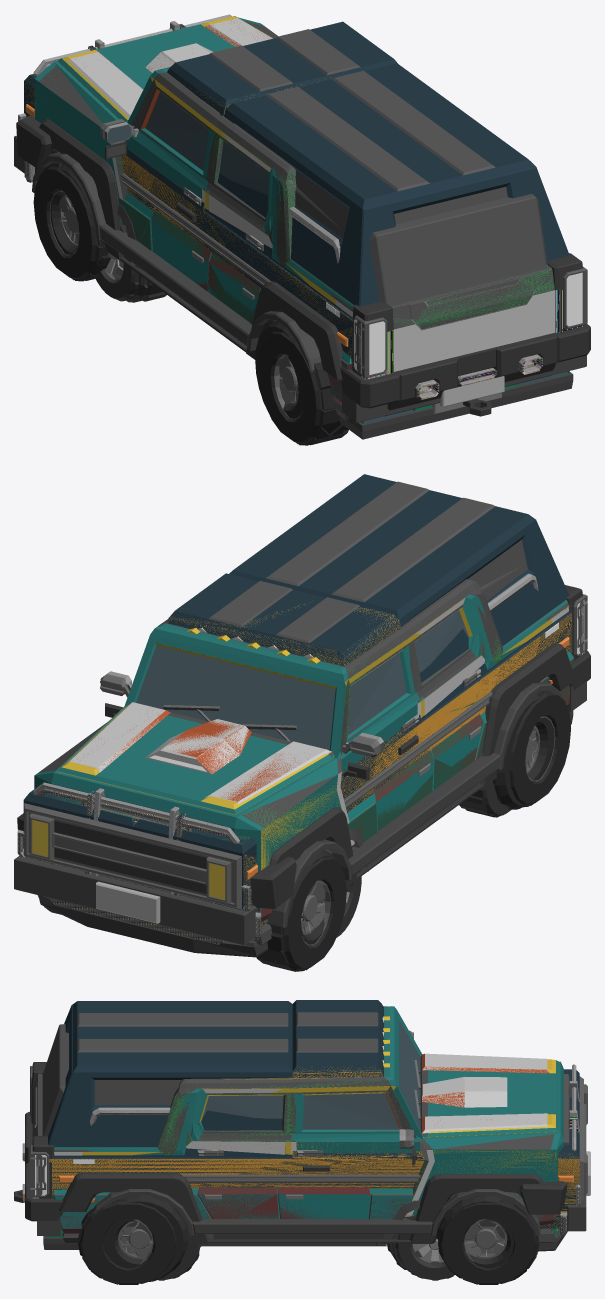
The model's file is cars.glb.
3 renders of one model, top to bottom at view 1: azimuth 30°, elevation 25°; view 2: azimuth 150°, elevation 25°; view 3: azimuth 270°, elevation 25°, orthographic. The views are drawn at different scales.
Parts seen in each view (by area): view 1: car_a01_002_body, Object545_body, Object546_body, Object548_body, car_a02_002_body, Object547_body, Object568_body, Object565_body, Object551_wheel_FL_mesh, Object564_body, Object549_body, Object549_wheel_RL_mesh (+14 smaller); view 2: car_a01_002_body, Object548_body, Object545_body, car_a02_002_body, Object546_body, Object549_body, Object565_body, Object551_body, Object568_body, Object551_wheel_FL_mesh, Object549_wheel_FL_mesh, car_a02_003_body (+11 smaller); view 3: car_a01_002_body, Object548_body, Object546_body, Object545_body, car_a02_002_body, Object568_body, Object557_body, Object545_wheel_RR_mesh, Object549_body, Object545_wheel_FR_mesh, Object549_wheel_FR_mesh, car_a01_002_wheel_RR_mesh (+13 smaller).
Part boxes in pixels (x1,y1,x2,y2): car_a01_002_body: [14, 21, 586, 422]; Object545_body: [18, 18, 590, 416]; Object546_body: [18, 14, 590, 398]; Object548_body: [21, 16, 577, 395]; car_a02_002_body: [14, 78, 586, 422]; Object547_body: [18, 15, 587, 388]; Object568_body: [58, 151, 351, 417]; Object565_body: [118, 197, 348, 419]; Object551_wheel_FL_mesh: [37, 171, 99, 280]; Object564_body: [340, 374, 573, 439]; Object549_body: [16, 16, 548, 395]; Object549_wheel_RL_mesh: [258, 331, 312, 439]; car_a01_002_body: [14, 474, 586, 945]; Object548_body: [17, 590, 586, 887]; Object545_body: [17, 565, 590, 944]; car_a02_002_body: [14, 604, 581, 944]; Object546_body: [17, 573, 590, 918]; Object549_body: [57, 597, 583, 909]; Object565_body: [258, 659, 573, 945]; Object551_body: [21, 594, 585, 873]; Object568_body: [252, 651, 573, 944]; Object551_wheel_FL_mesh: [292, 853, 346, 965]; Object549_wheel_FL_mesh: [256, 865, 337, 970]; car_a02_003_body: [20, 681, 586, 920]; car_a01_002_body: [14, 1000, 590, 1235]; Object548_body: [36, 1006, 569, 1244]; Object546_body: [22, 1006, 580, 1243]; Object545_body: [22, 1018, 580, 1244]; car_a02_002_body: [14, 1052, 587, 1235]; Object568_body: [53, 1188, 555, 1243]; Object557_body: [53, 1187, 555, 1244]; Object545_wheel_RR_mesh: [78, 1200, 169, 1284]; Object549_body: [36, 1016, 557, 1244]; Object545_wheel_FR_mesh: [438, 1203, 529, 1284]; Object549_wheel_FR_mesh: [448, 1198, 539, 1284]; car_a01_002_wheel_RR_mesh: [103, 1195, 187, 1281].
Bounding box in the file's own units: 0.9097 × 0.8041 × 2.05.
1 material, 1 textured.
